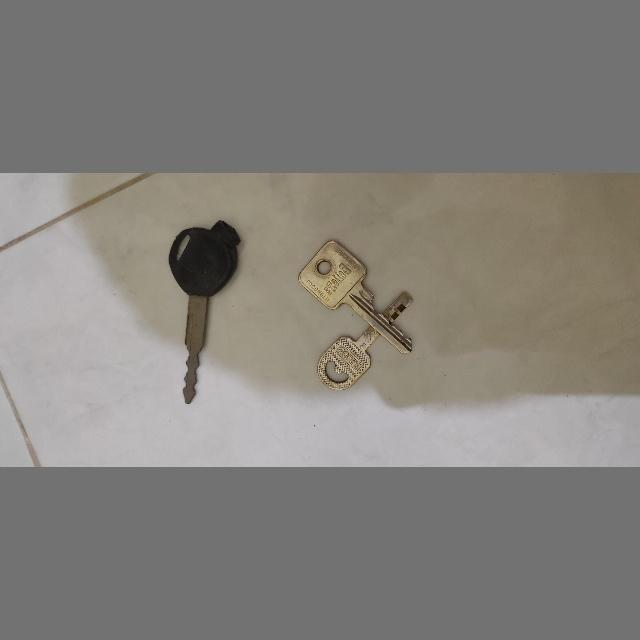Keys: (161, 219, 249, 415), (296, 231, 416, 357), (316, 292, 422, 396)
